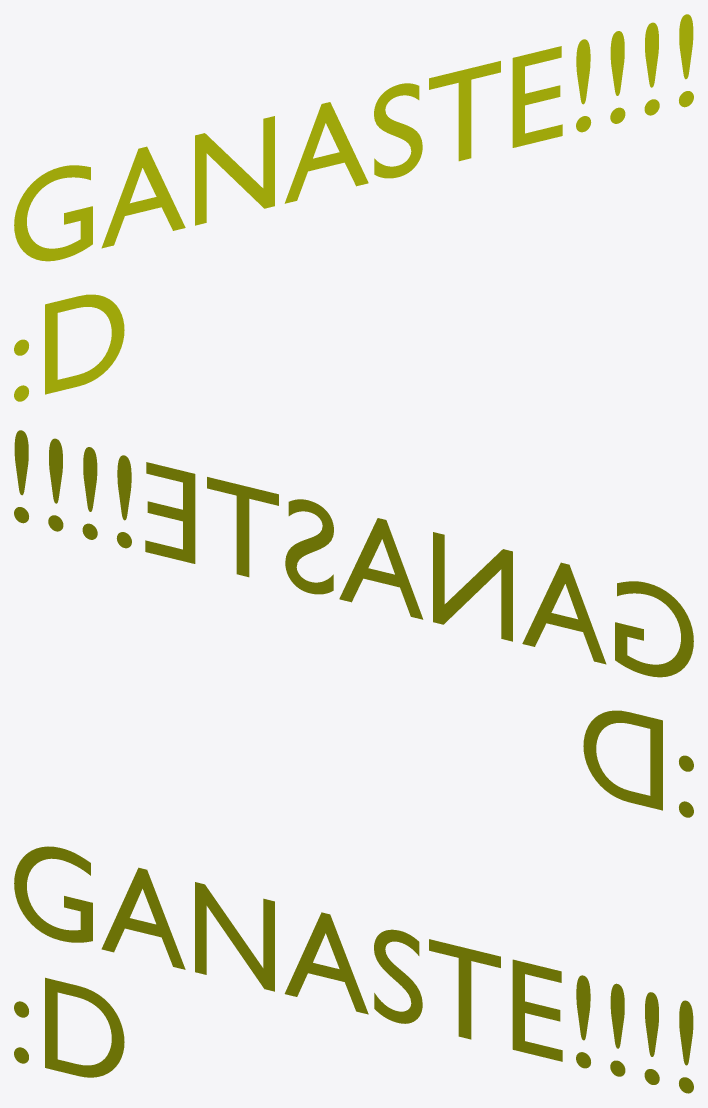
File: _GANASTE_.fbx
3 views of the same model, one above another, from view 1: azimuth 30°, elevation 25°; view 2: azimuth 150°, elevation 25°; view 3: azimuth 330°, elevation 25° (orthographic).
Visible parts, largest first — view 1: Text; view 2: Text; view 3: Text.
Part boxes in pixels (bbox=[...]): Text: bbox=[14, 14, 693, 401]; Text: bbox=[14, 430, 693, 817]; Text: bbox=[14, 846, 693, 1093].
Bounding box in the file's own units: 538 × 170 × 2.77e-05.
